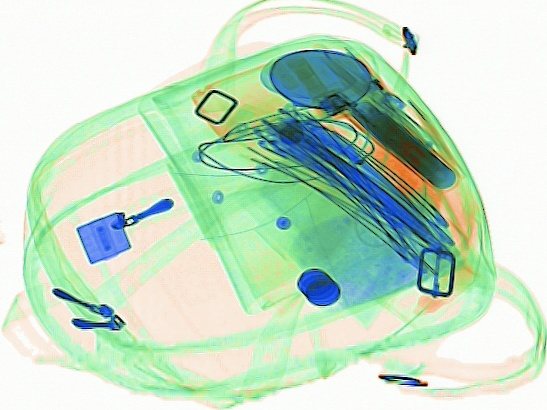powerbank: (339, 93, 461, 191)
